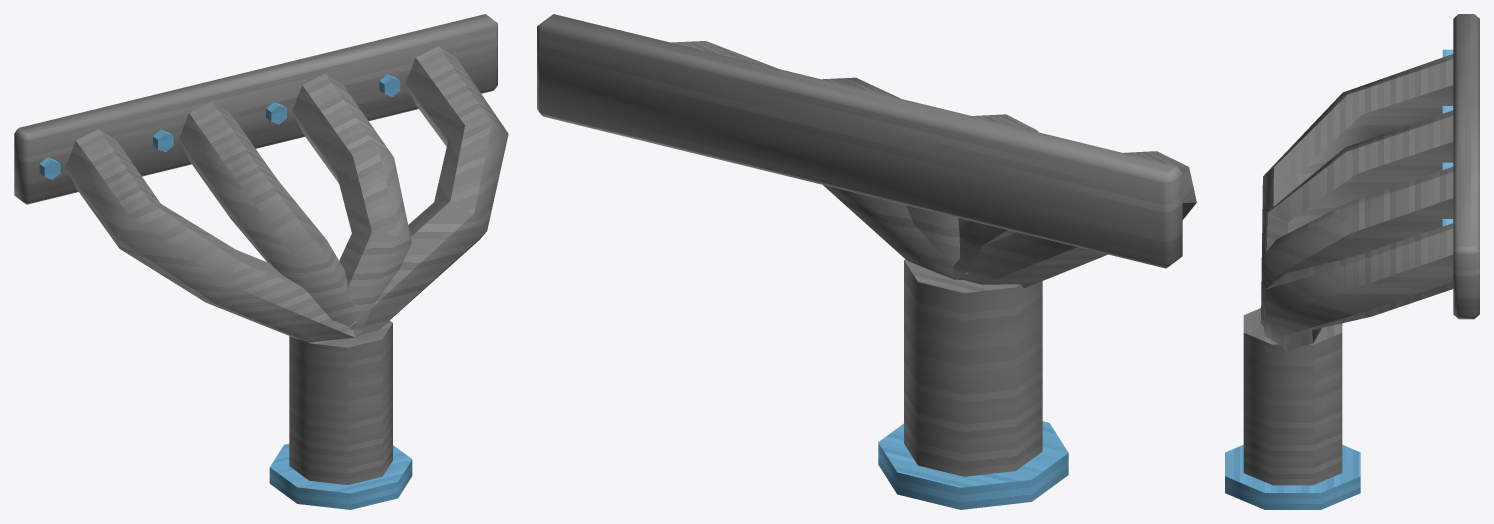
File: coletor_escape_n1.glb
3 views of the same model, side by side, from view 1: azimuth 30°, elevation 25°; view 2: azimuth 150°, elevation 25°; view 3: azimuth 270°, elevation 25° (orthographic). The views are drawn at different scales.
Parts seen in each view (by area): view 1: coletor_escape_n1; view 2: coletor_escape_n1; view 3: coletor_escape_n1.
Boxes of the visible parts, x1,y1,x2,y2 form: coletor_escape_n1: [14, 14, 508, 509]; coletor_escape_n1: [537, 14, 1196, 509]; coletor_escape_n1: [1225, 14, 1479, 509].
Bounding box in the file's own units: 0.42 × 0.29 × 0.1908.
1 material, 1 textured.
